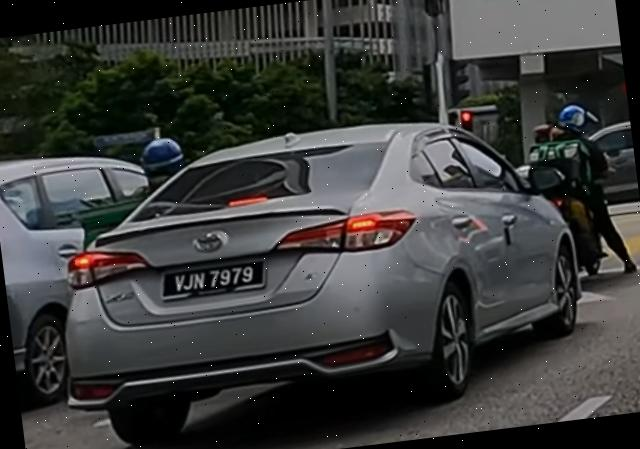License_Plate: (157, 257, 269, 303)
car: (36, 99, 595, 449)
